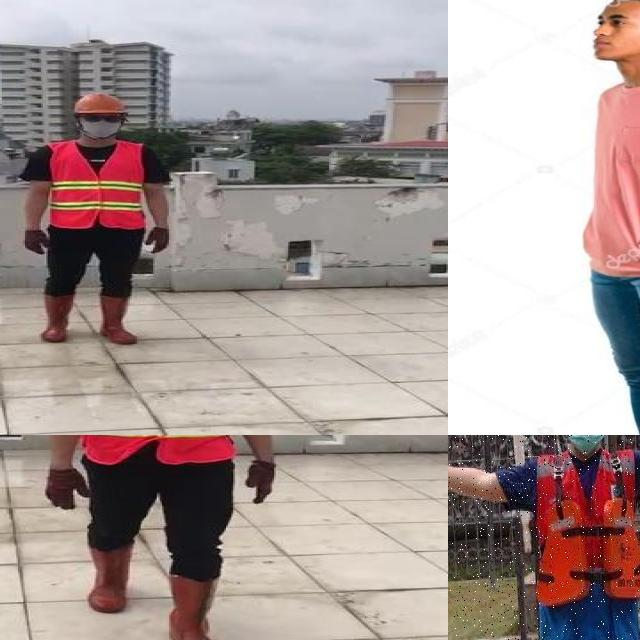No_Glasses: (594, 11, 634, 30)
boots: (167, 575, 229, 640), (88, 540, 134, 614), (93, 294, 137, 344), (39, 294, 73, 342)
face_mask: (78, 110, 124, 138)
face_nomask: (583, 26, 640, 62)
glasses: (78, 112, 128, 125)
hand_glove: (45, 469, 89, 509), (245, 459, 278, 504), (20, 229, 54, 256), (144, 228, 171, 253)
head_helmet: (67, 94, 131, 115)
person: (38, 435, 285, 640), (12, 90, 186, 350), (448, 435, 640, 640), (563, 0, 640, 435)
vest: (534, 447, 640, 640), (48, 140, 148, 229), (83, 435, 233, 467)
